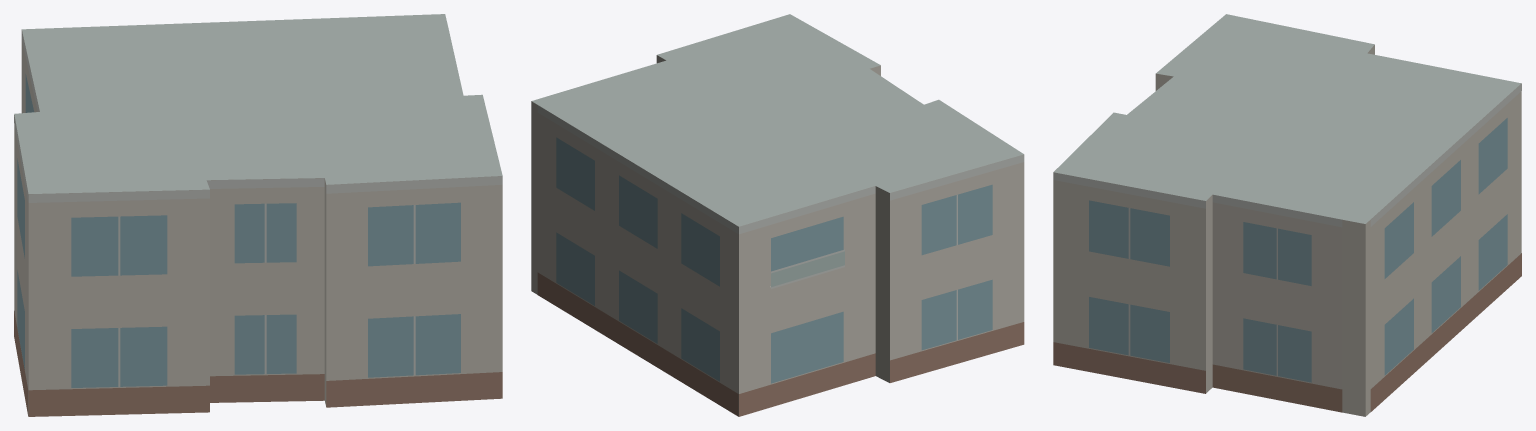
The model's file is survey-upis-32656824.glb.
3 views of the same model, side by side, from view 1: azimuth 30°, elevation 25°; view 2: azimuth 150°, elevation 25°; view 3: azimuth 270°, elevation 25° (orthographic). The views are drawn at different scales.
Parts seen in each view (by area): view 1: survey-upis-32656824.tmp; view 2: survey-upis-32656824.tmp; view 3: survey-upis-32656824.tmp.
Part boxes in pixels (bbox=[...]): survey-upis-32656824.tmp: bbox=[14, 14, 502, 416]; survey-upis-32656824.tmp: bbox=[531, 14, 1024, 416]; survey-upis-32656824.tmp: bbox=[1053, 14, 1521, 416].
Bounding box in the file's own units: 14.25 × 6.1 × 13.44.
